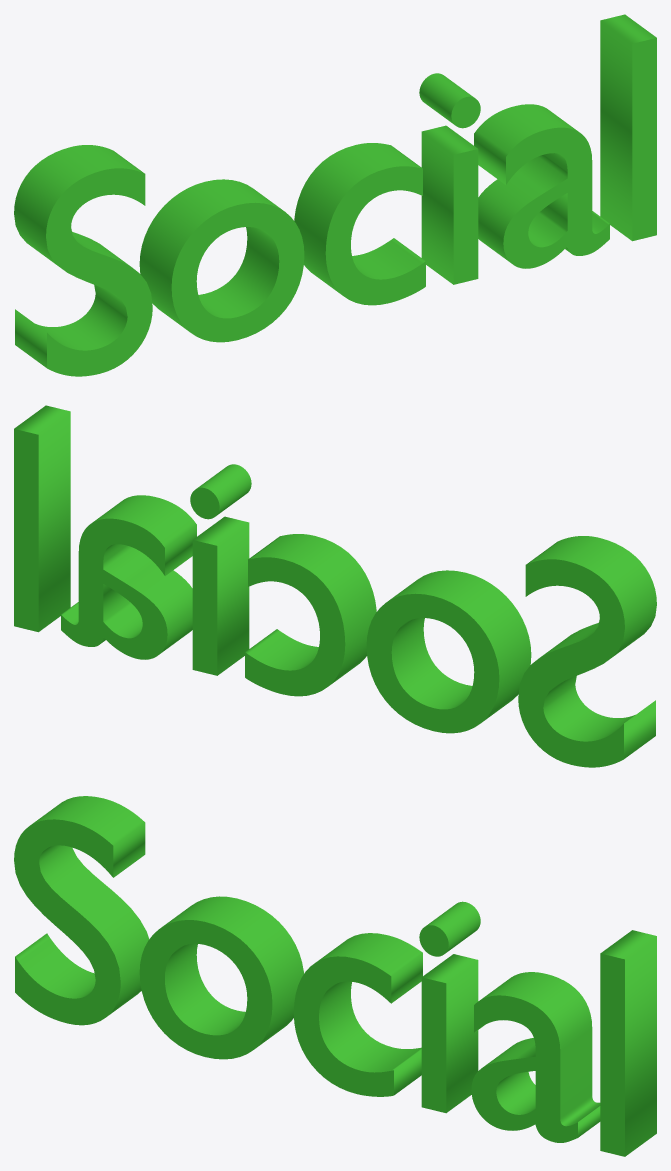
File: NewWebMenuSocial5.gltf
3 renders of one model, top to bottom at view 1: azimuth 30°, elevation 25°; view 2: azimuth 150°, elevation 25°; view 3: azimuth 330°, elevation 25°, orthographic.
Visible parts, largest first — view 1: Social; view 2: Social; view 3: Social.
Part boxes in pixels (bbox=[...]): Social: bbox=[14, 14, 656, 376]; Social: bbox=[14, 405, 656, 767]; Social: bbox=[14, 796, 656, 1156].
Bounding box in the file's own units: 0.5474 × 0.1736 × 0.0496.
